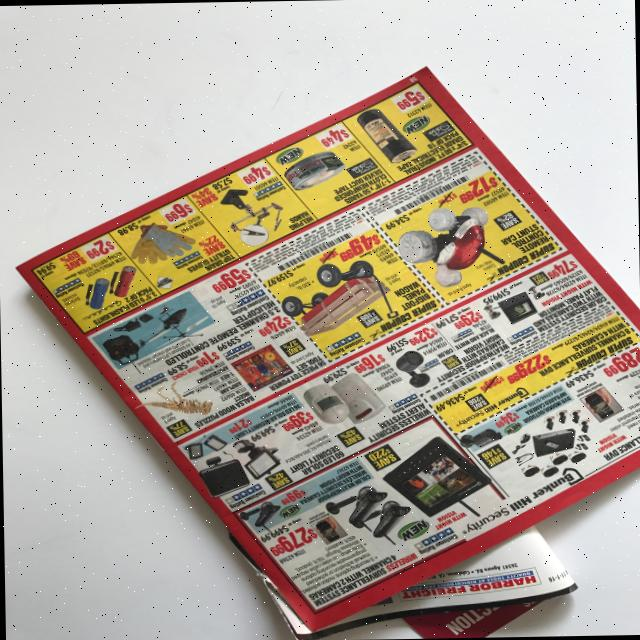paper: (9, 61, 640, 640)
